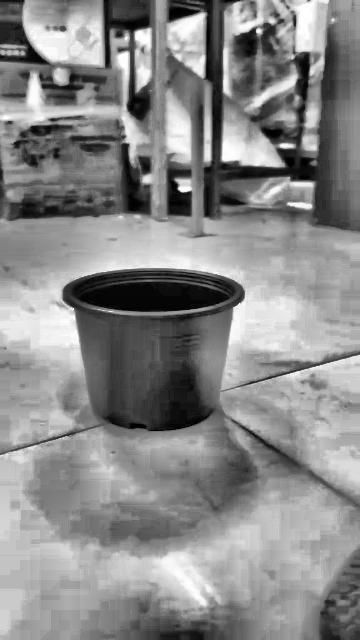pot: (64, 268, 243, 431)
